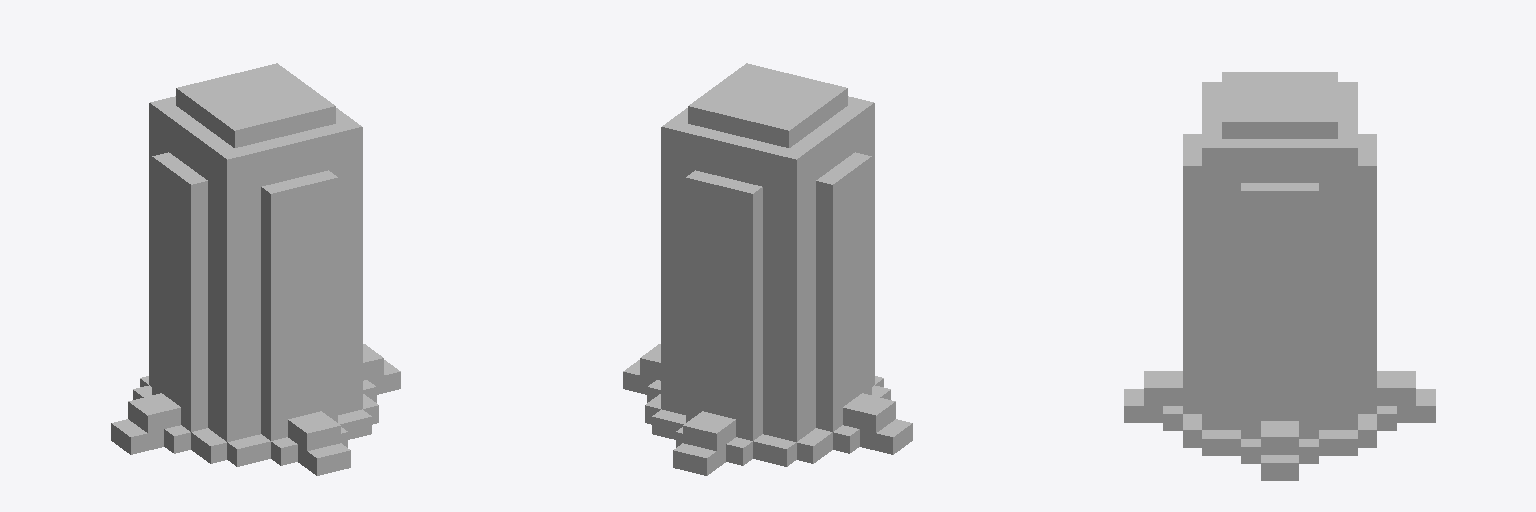
File: Death Marker.obj
The picture shows the model from 3 angles: view 1: azimuth 30°, elevation 25°; view 2: azimuth 150°, elevation 25°; view 3: azimuth 270°, elevation 25°; orthographic projection.
Parts seen in each view (by area): view 1: object 1; view 2: object 1; view 3: object 1.
Boxes of the visible parts, x1=… form: object 1: x1=111, y1=63, x2=400, y2=475; object 1: x1=623, y1=63, x2=912, y2=475; object 1: x1=1124, y1=72, x2=1435, y2=480.
Bounding box in the file's own units: 1.6 × 1.8 × 1.6.